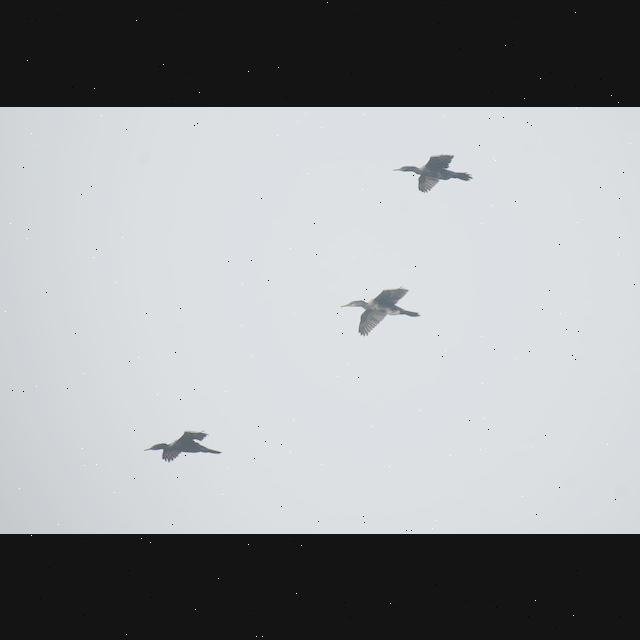cormorant: (336, 280, 420, 340), (386, 148, 478, 196), (139, 424, 225, 472)
